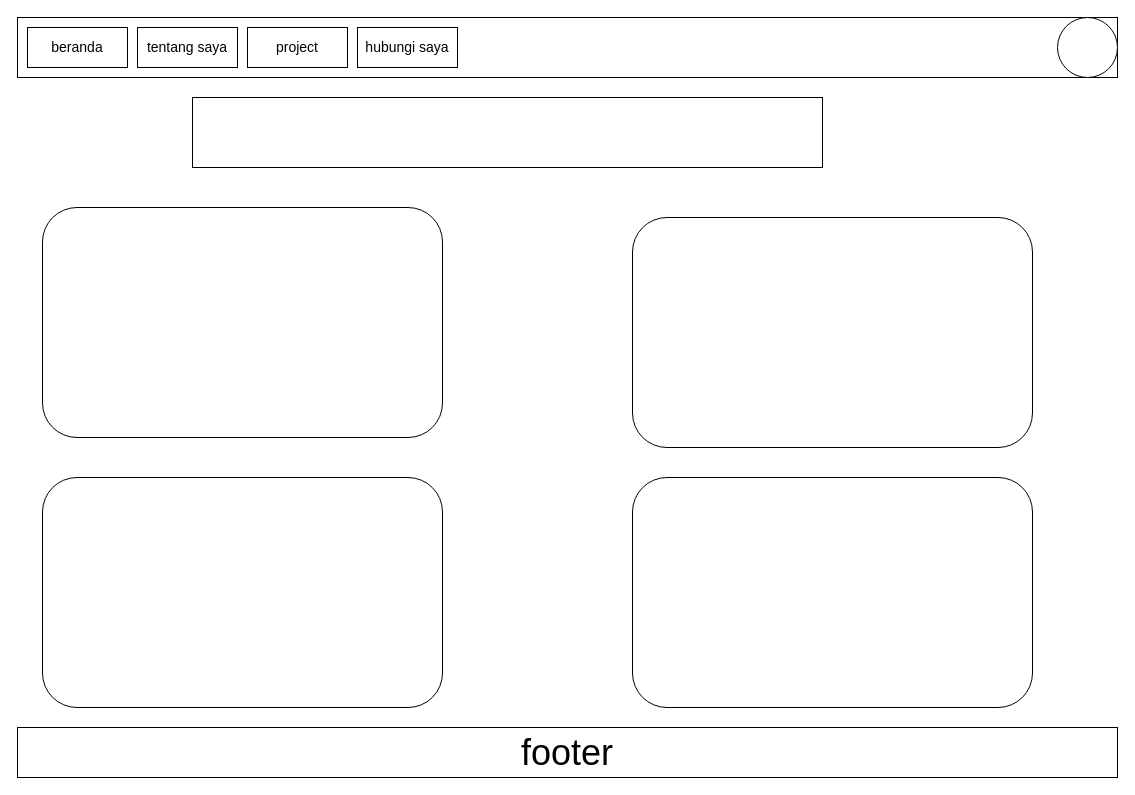
This 1135x795 diagram has some shape labels left out. The shapes that lost their labels are listed below. From the top down, each one's centre as x and y in pixels, then its label:
(x=1087, y=47): logo
(x=507, y=132): projects
